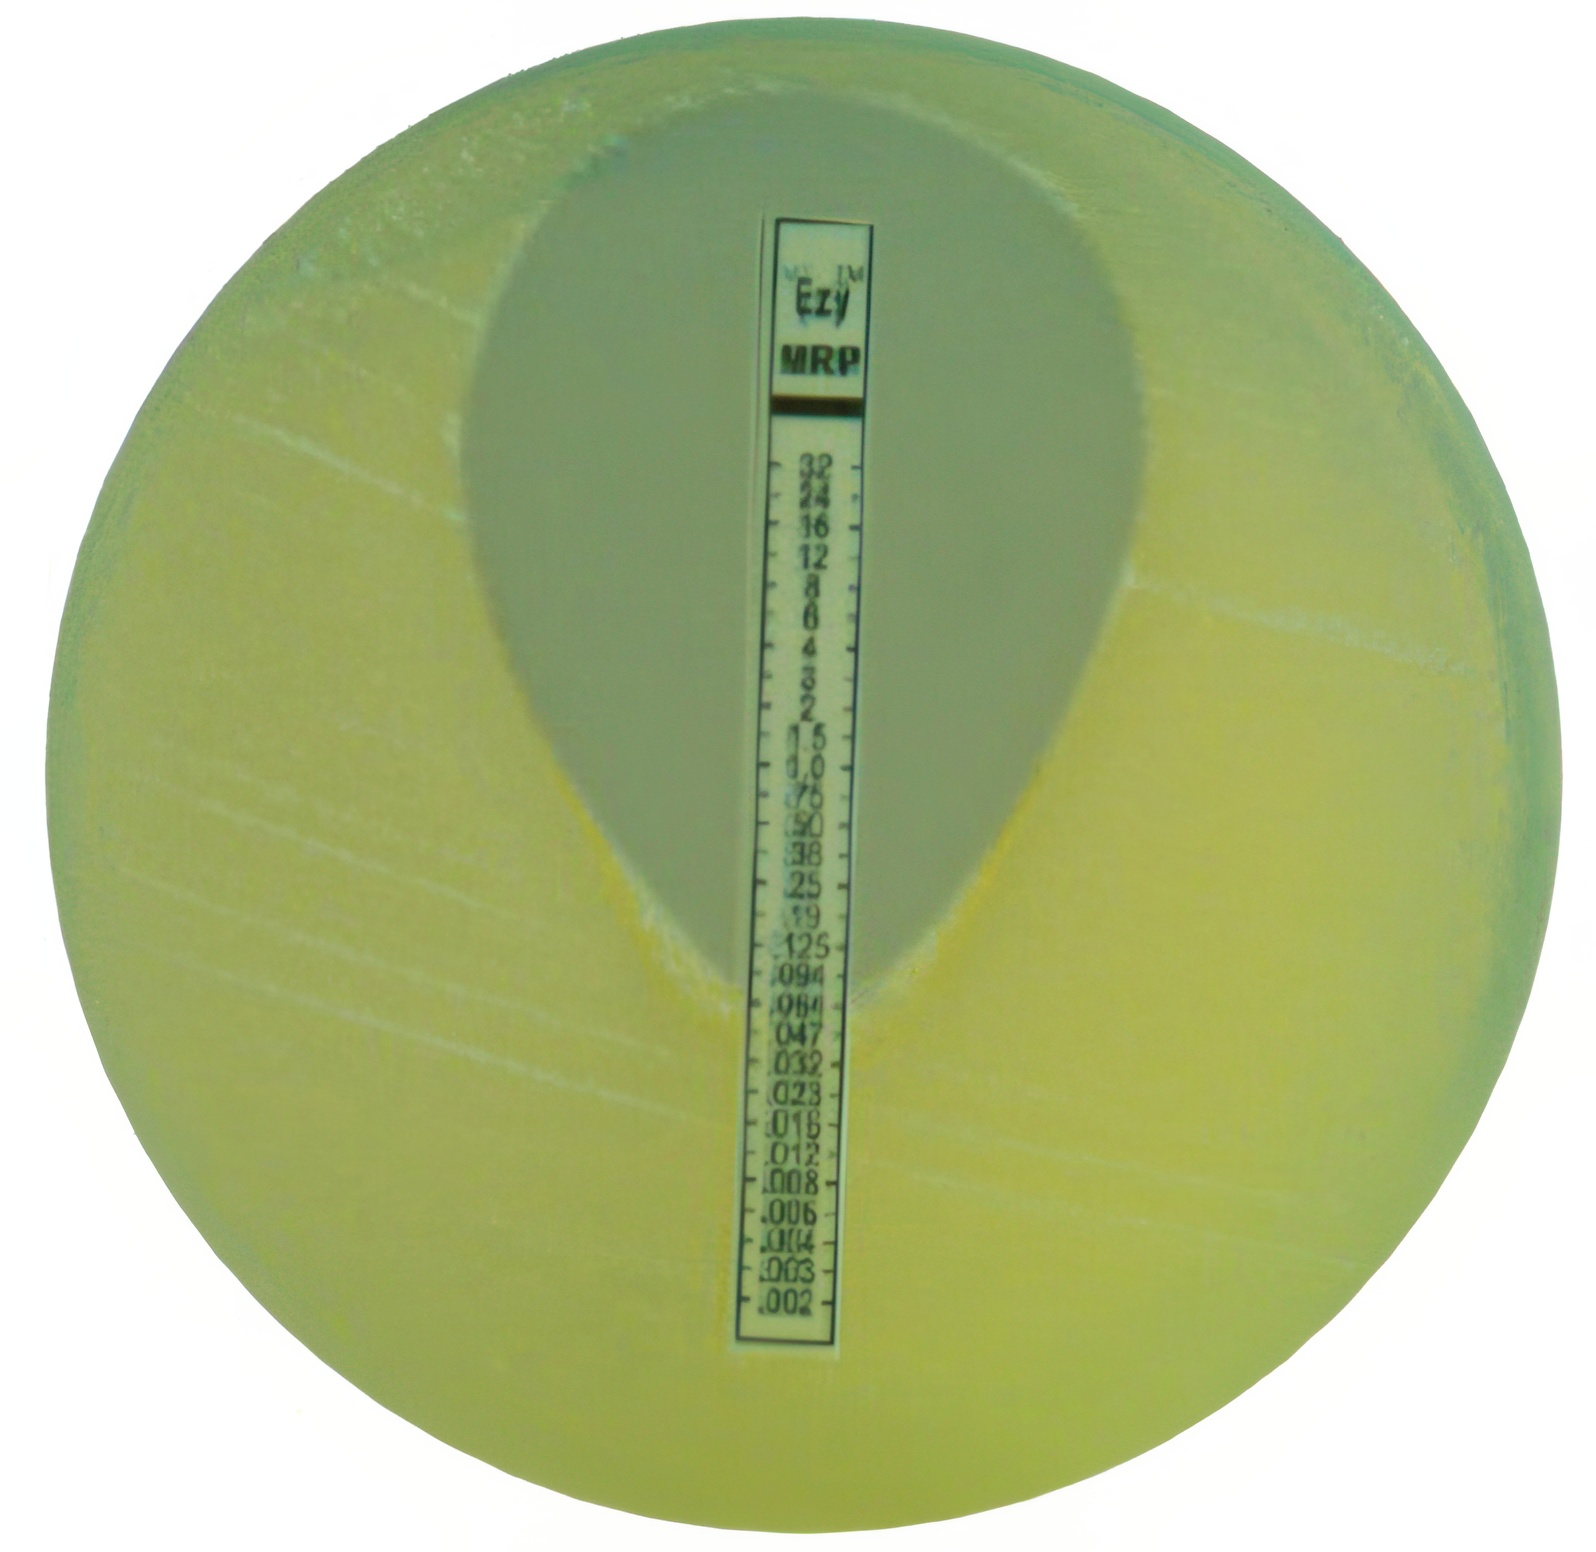line: (724, 215, 881, 1361)
zone: (440, 87, 1161, 1003)
